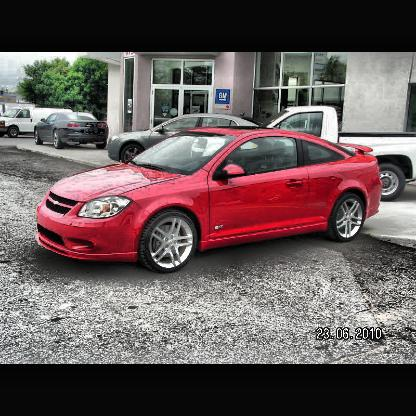Chevrolet Cobalt SS 2010: (36, 126, 385, 274)
